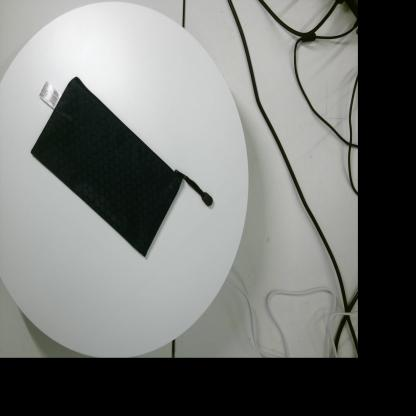Stationery: (31, 76, 213, 257)
